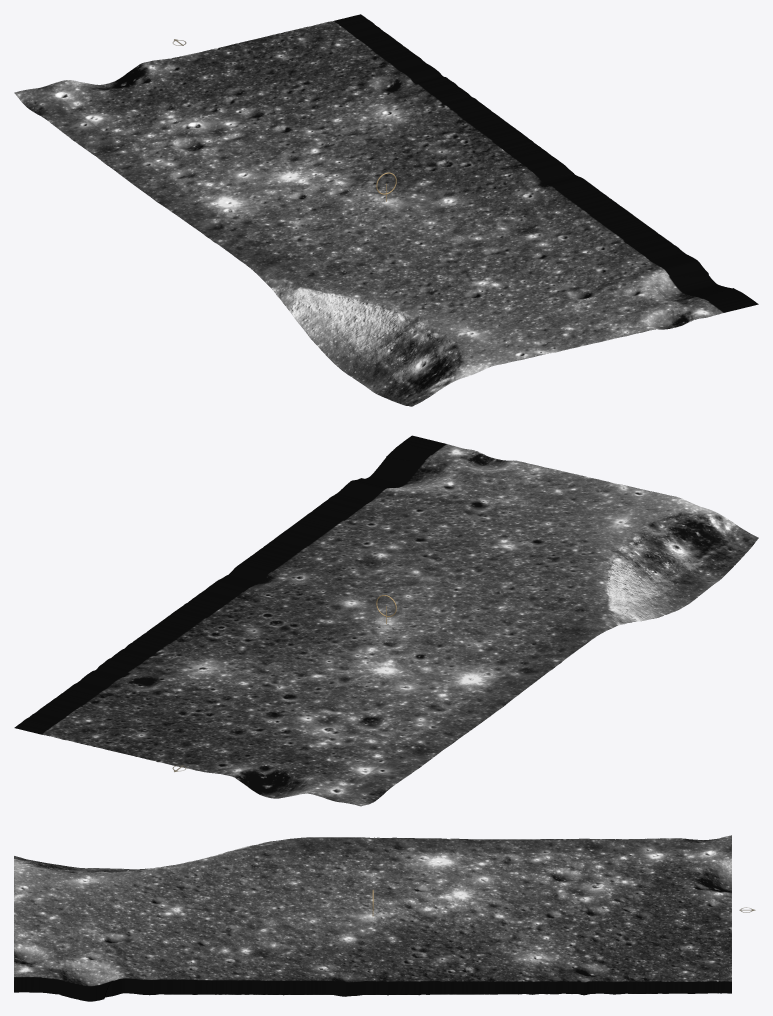
Rendered from Apollo15_Hadley_Apennine_MKI.glb.
3 views of the same model, one above another, from view 1: azimuth 30°, elevation 25°; view 2: azimuth 150°, elevation 25°; view 3: azimuth 270°, elevation 25° (orthographic). The views are drawn at different scales.
Visible parts, largest first — view 1: Apollo15_Hadley_Apennine; view 2: Apollo15_Hadley_Apennine; view 3: Apollo15_Hadley_Apennine.
Part boxes in pixels (box(x1,y1,x2,y2)): Apollo15_Hadley_Apennine: box(14, 14, 758, 406); Apollo15_Hadley_Apennine: box(14, 435, 758, 806); Apollo15_Hadley_Apennine: box(14, 835, 731, 1001).
Size of the model in its own units: 3016 by 505 by 6217.
Materials: 3 (2 with a texture image).
